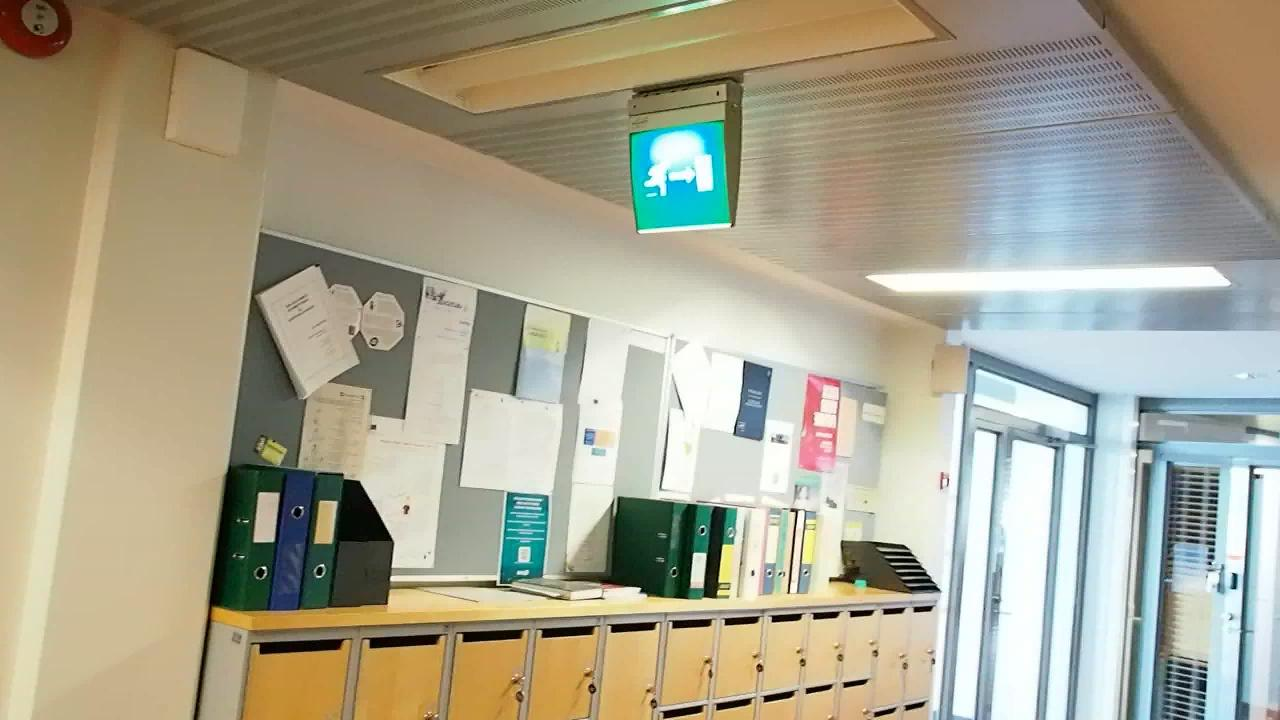exit: (630, 118, 738, 232)
